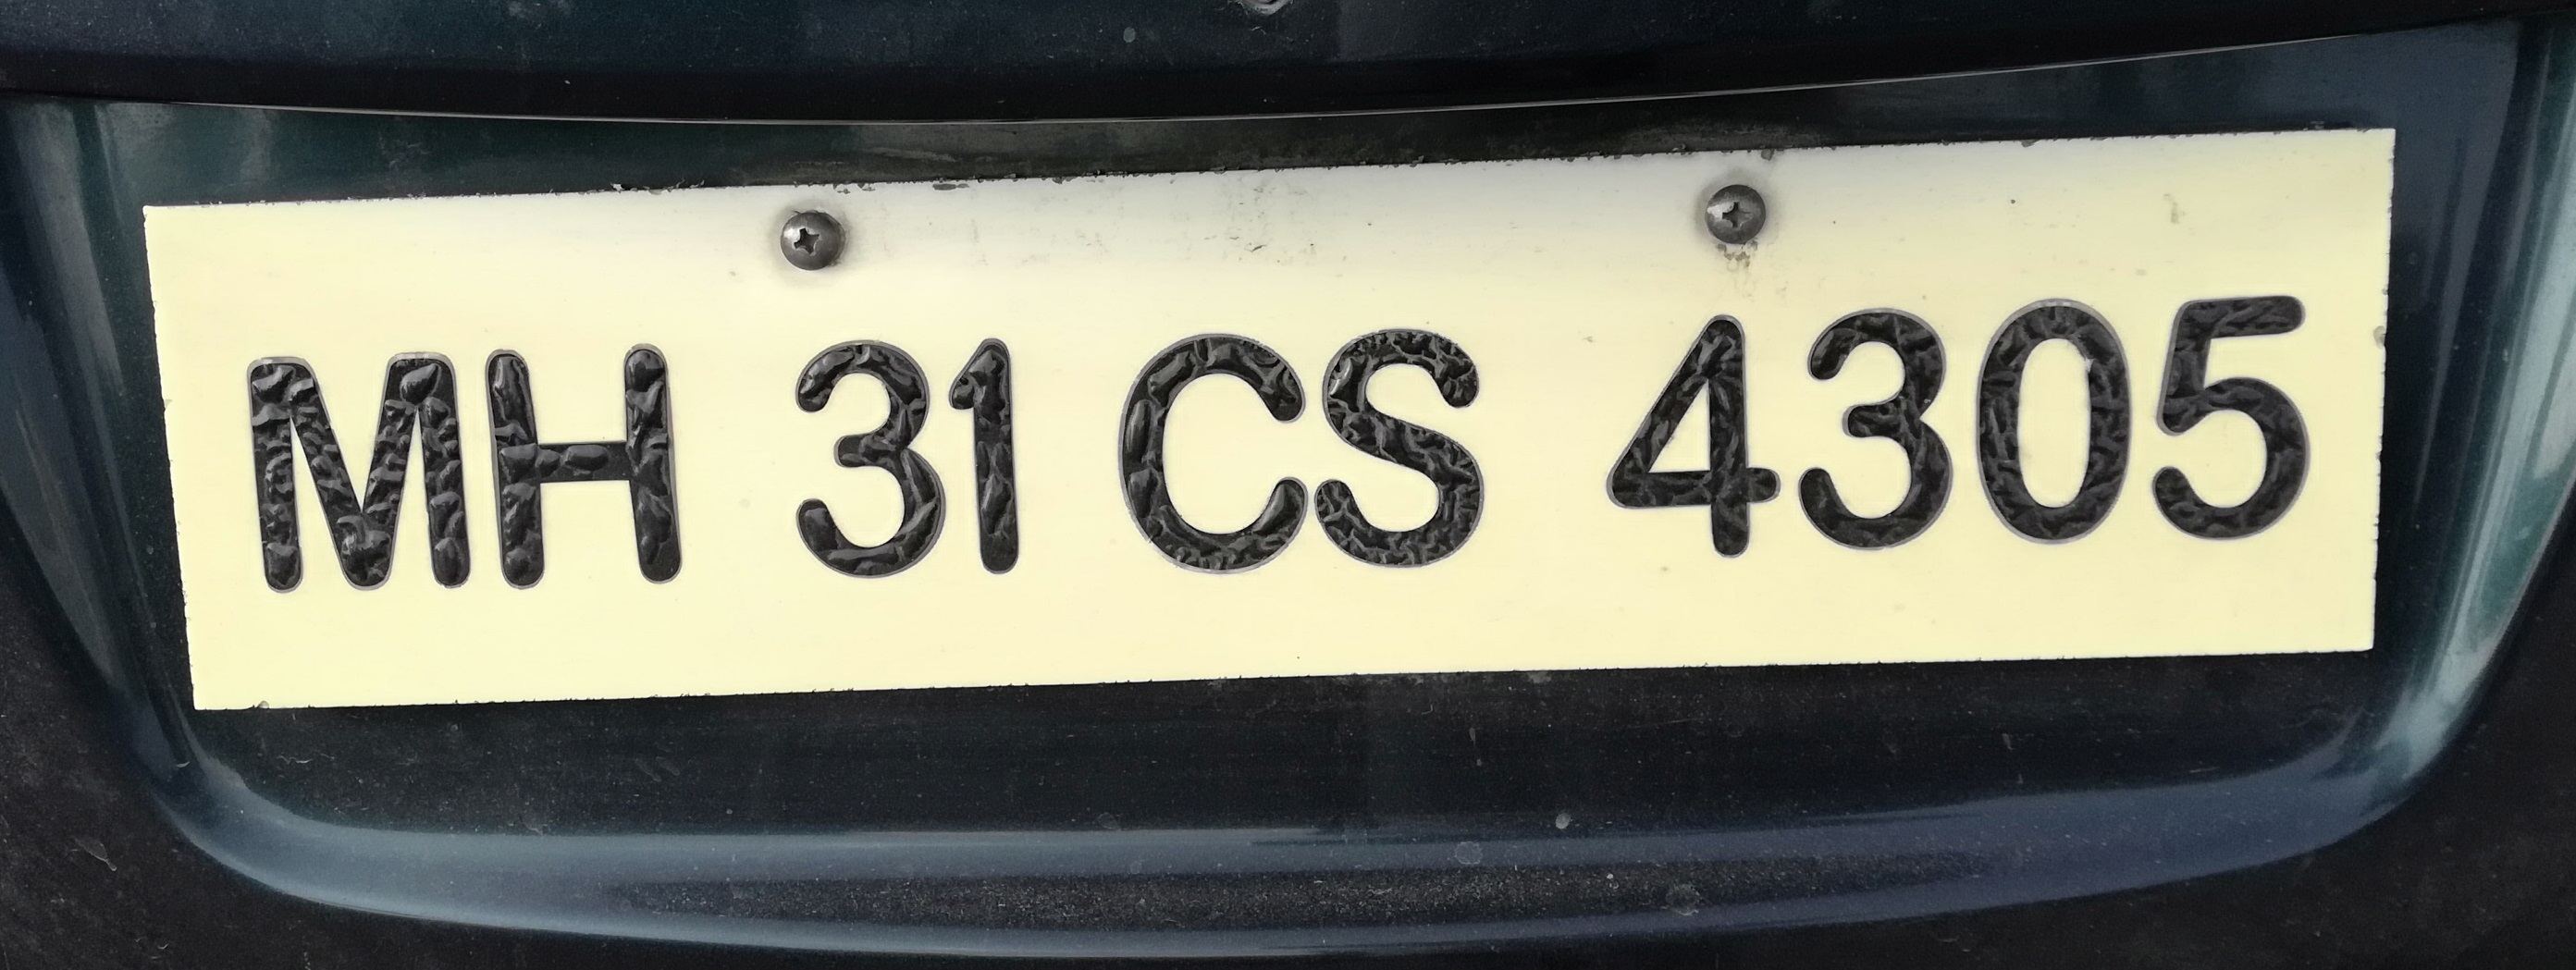numberplate: (129, 107, 2405, 703)
